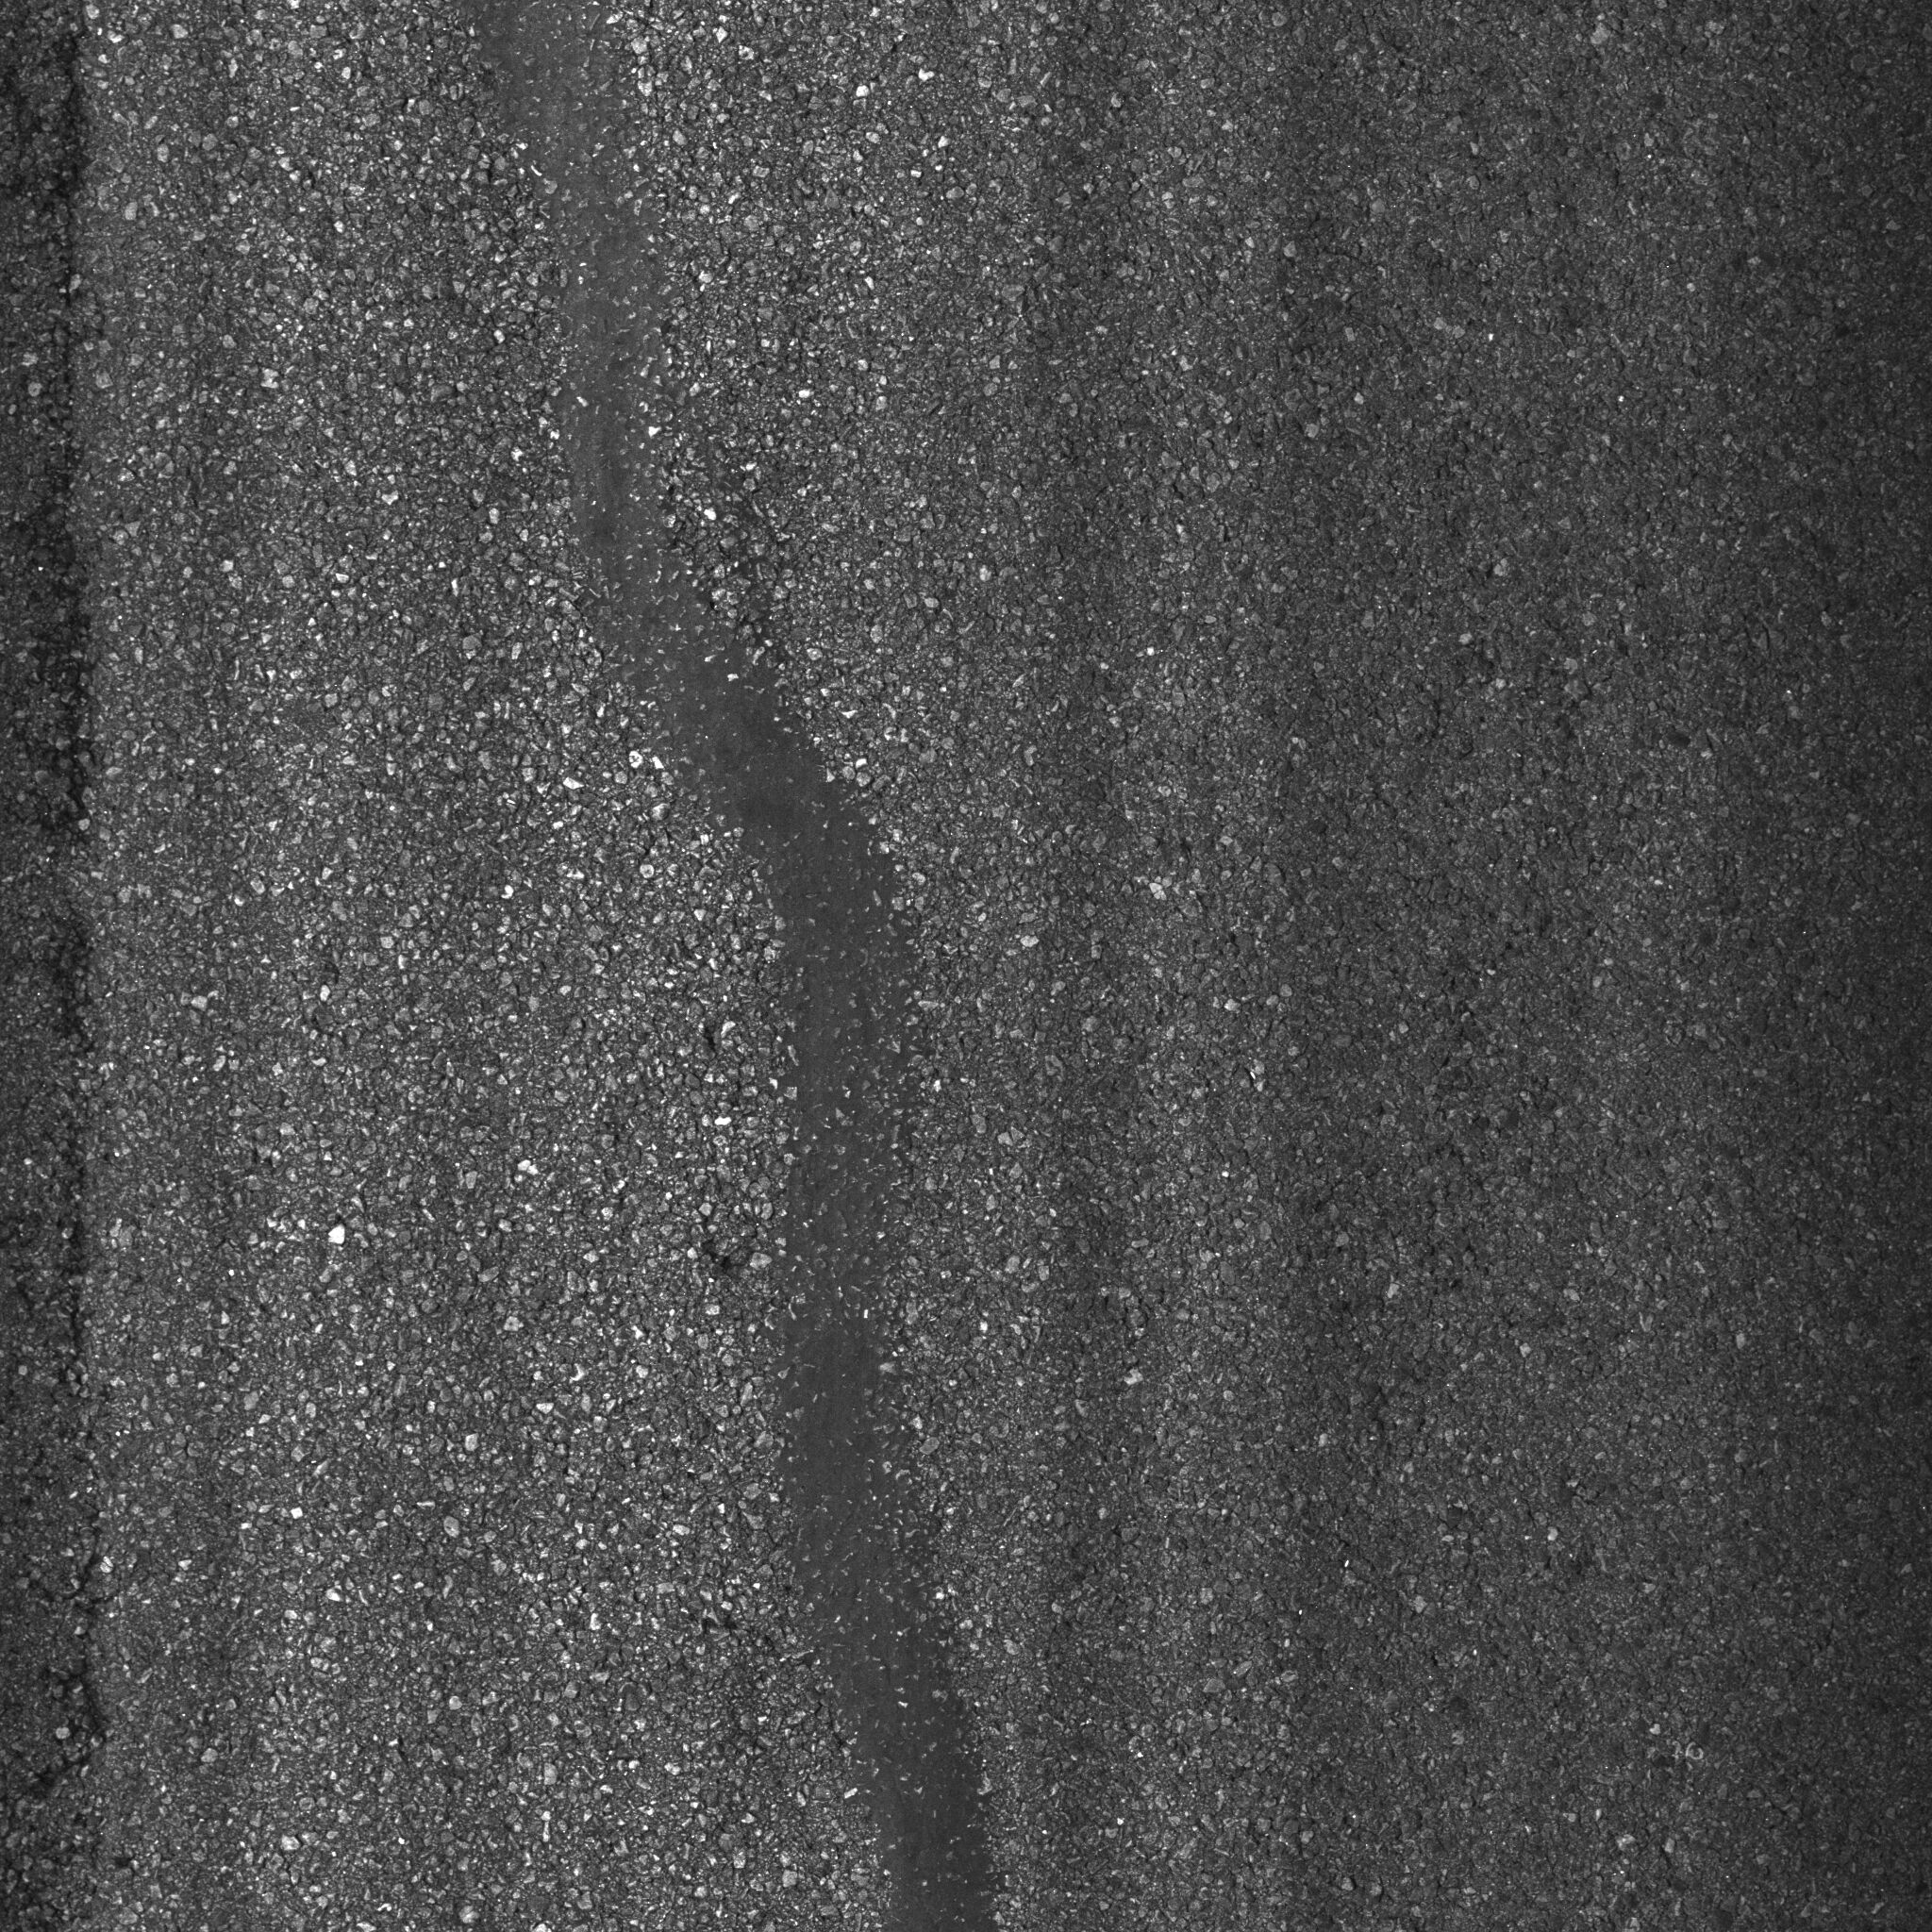longitudinal: (19, 9, 156, 1835)
